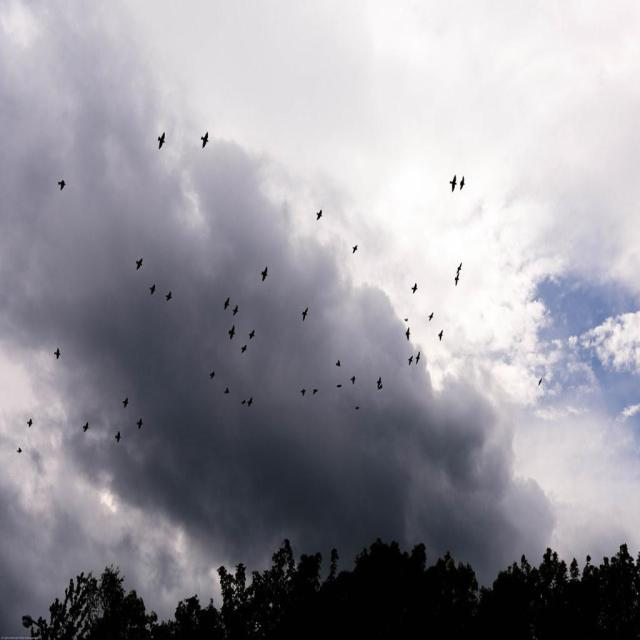bird: (196, 124, 210, 154), (155, 126, 166, 152), (54, 175, 68, 192), (448, 174, 457, 193), (260, 264, 269, 282), (134, 256, 144, 270), (459, 174, 466, 192), (228, 324, 235, 340), (453, 272, 460, 287), (136, 417, 144, 430), (351, 242, 359, 255), (410, 282, 418, 295), (455, 261, 463, 274), (54, 348, 62, 360), (82, 420, 90, 432), (122, 396, 130, 408), (315, 208, 323, 220), (149, 283, 156, 296), (165, 289, 172, 302), (223, 297, 230, 310), (115, 430, 122, 443), (302, 307, 308, 322), (404, 326, 410, 341), (26, 417, 34, 428), (415, 351, 421, 365), (437, 329, 444, 341), (232, 304, 238, 317), (247, 397, 253, 408), (249, 329, 255, 340), (376, 376, 381, 388), (408, 354, 413, 366), (428, 310, 433, 322), (16, 446, 23, 454), (335, 360, 342, 368), (351, 374, 356, 385), (300, 388, 306, 397), (210, 370, 215, 380), (241, 344, 247, 352), (377, 381, 382, 390), (224, 386, 229, 394), (538, 378, 542, 387), (313, 388, 318, 394), (354, 405, 360, 410), (337, 383, 342, 388), (403, 316, 408, 321), (241, 400, 246, 404)
